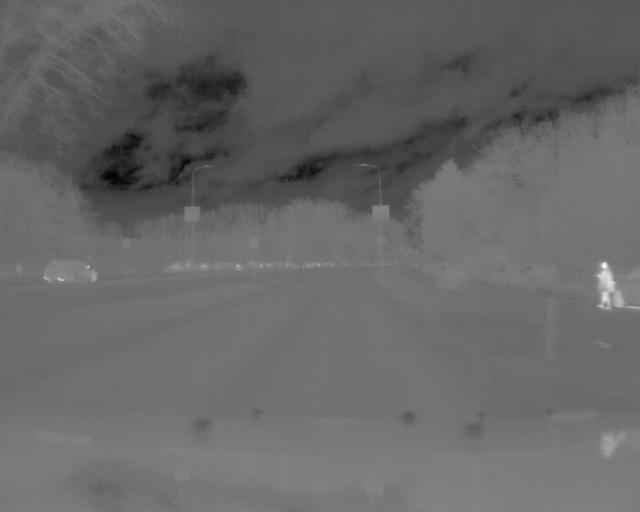car: (39, 251, 103, 289)
person: (585, 253, 618, 316)
